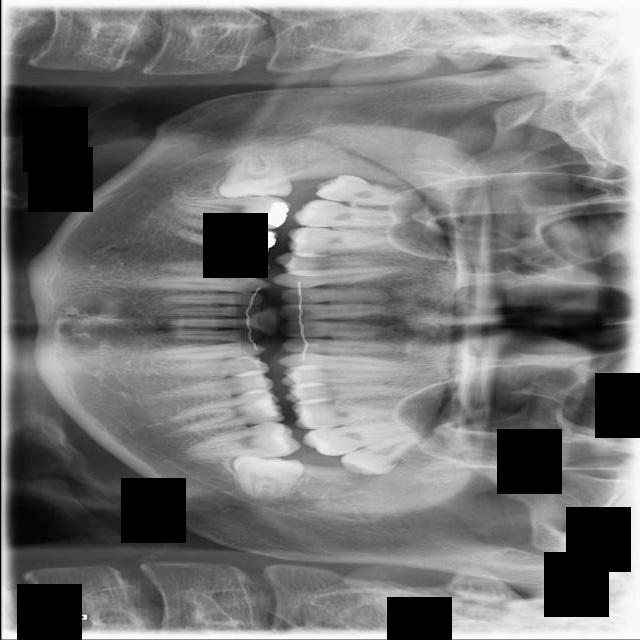3M ESPE Implant: (312, 170, 417, 214)
52: (225, 215, 280, 272), (229, 383, 285, 434), (237, 196, 290, 230)
73: (48, 618, 58, 626)
BioHorizons Implant: (300, 418, 425, 459)
BioLife Implant: (337, 424, 442, 487)
Biomet 3i Implant: (228, 452, 305, 503)
Blue Sky Bio Implant: (184, 420, 301, 461)
Caries: (292, 199, 418, 229)
Implant: (171, 193, 291, 231)
Keystone Dental Implant: (215, 153, 293, 203)
